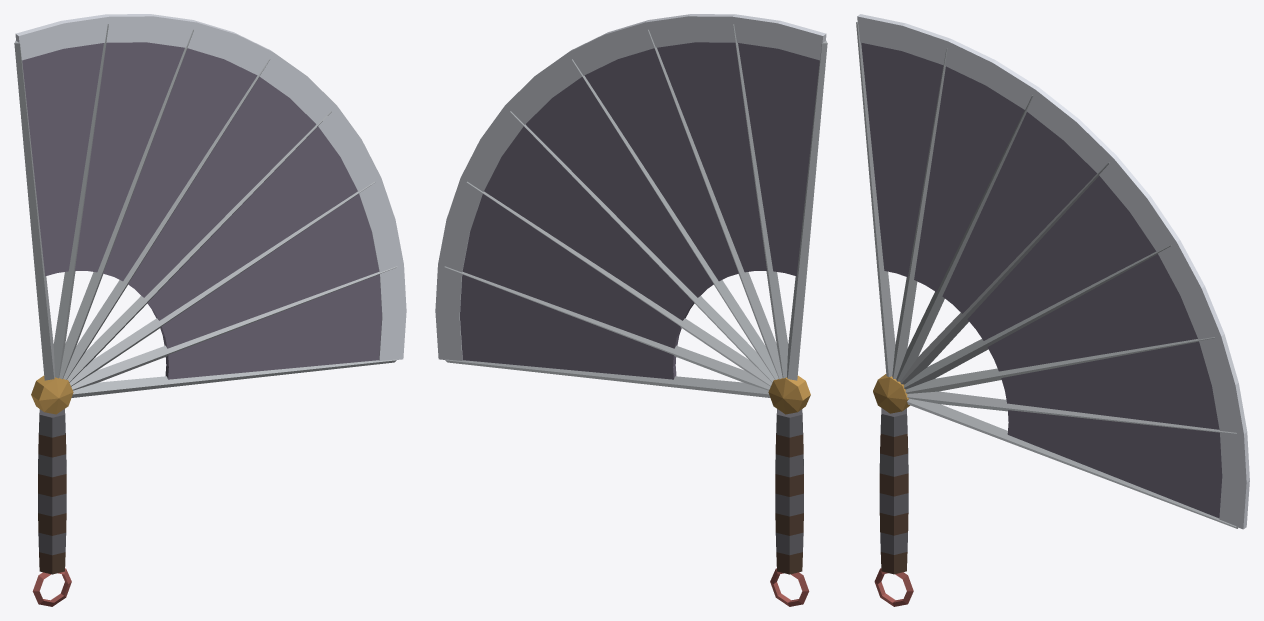
Rendered from war_fan.glb.
3 renders of one model, left to right at view 1: azimuth 30°, elevation 25°; view 2: azimuth 150°, elevation 25°; view 3: azimuth 330°, elevation 25°, orthographic.
Parts seen in each view (by area): view 1: war_fan; view 2: war_fan; view 3: war_fan.
Part boxes in pixels (x1=…): war_fan: x1=14, y1=14, x2=406, y2=606; war_fan: x1=435, y1=14, x2=827, y2=606; war_fan: x1=856, y1=14, x2=1249, y2=606.
Size of the model in its own units: 0.6779 by 0.9657 by 0.0434.
